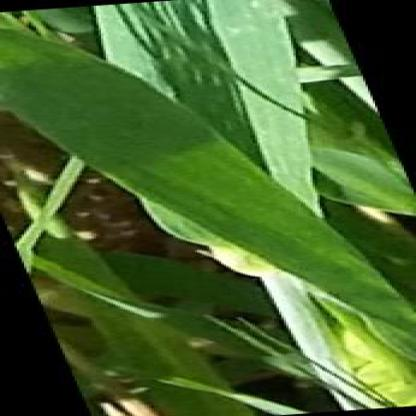Wheat Healthy: (107, 10, 290, 168), (346, 276, 411, 389), (314, 108, 374, 188), (14, 56, 86, 114), (172, 182, 256, 211), (245, 218, 313, 242)
